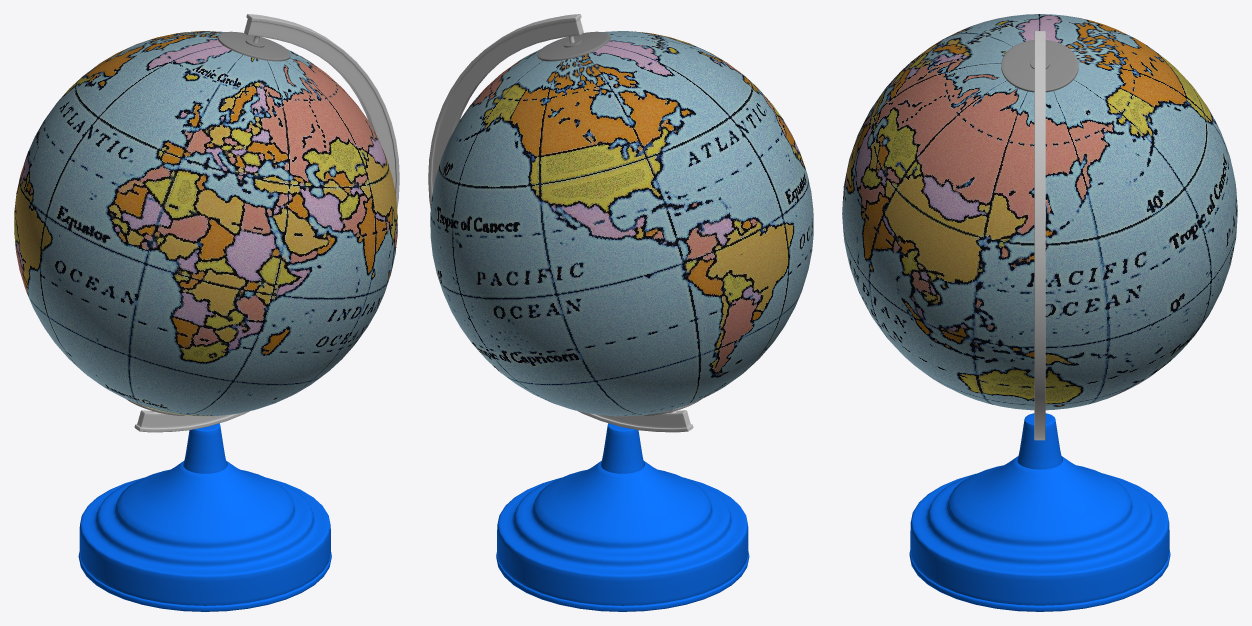
3 renders of one model, left to right at view 1: azimuth 30°, elevation 25°; view 2: azimuth 150°, elevation 25°; view 3: azimuth 270°, elevation 25°, orthographic. The views are drawn at different scales.
Parts seen in each view (by area): view 1: Object01, Globe02; view 2: Object01, Globe02; view 3: Object01, Globe02.
Part boxes in pixels (x1=…): Object01: x1=14, y1=31, x2=397, y2=416; Globe02: x1=78, y1=14, x2=399, y2=611; Object01: x1=430, y1=31, x2=813, y2=416; Globe02: x1=428, y1=14, x2=749, y2=611; Object01: x1=842, y1=14, x2=1237, y2=410; Globe02: x1=909, y1=31, x2=1170, y2=611.
Bounding box in the file's own units: 178 × 253 × 165.
Materials: 4 (1 with a texture image).
